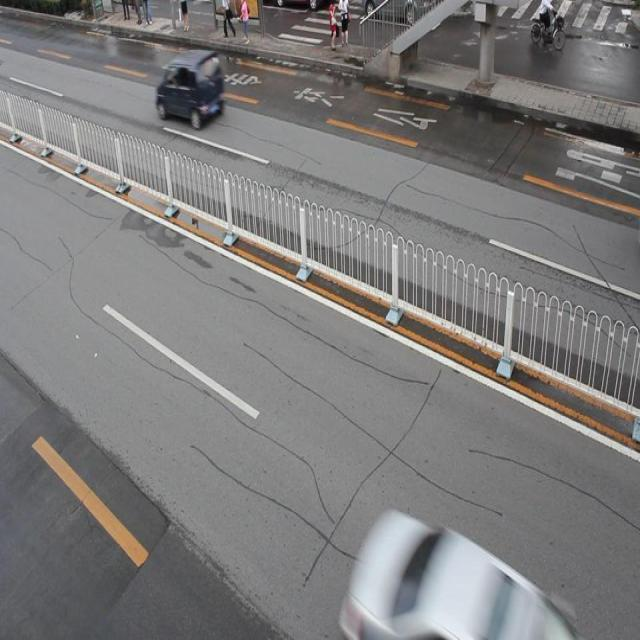car: (348, 507, 579, 640), (156, 50, 224, 129)
